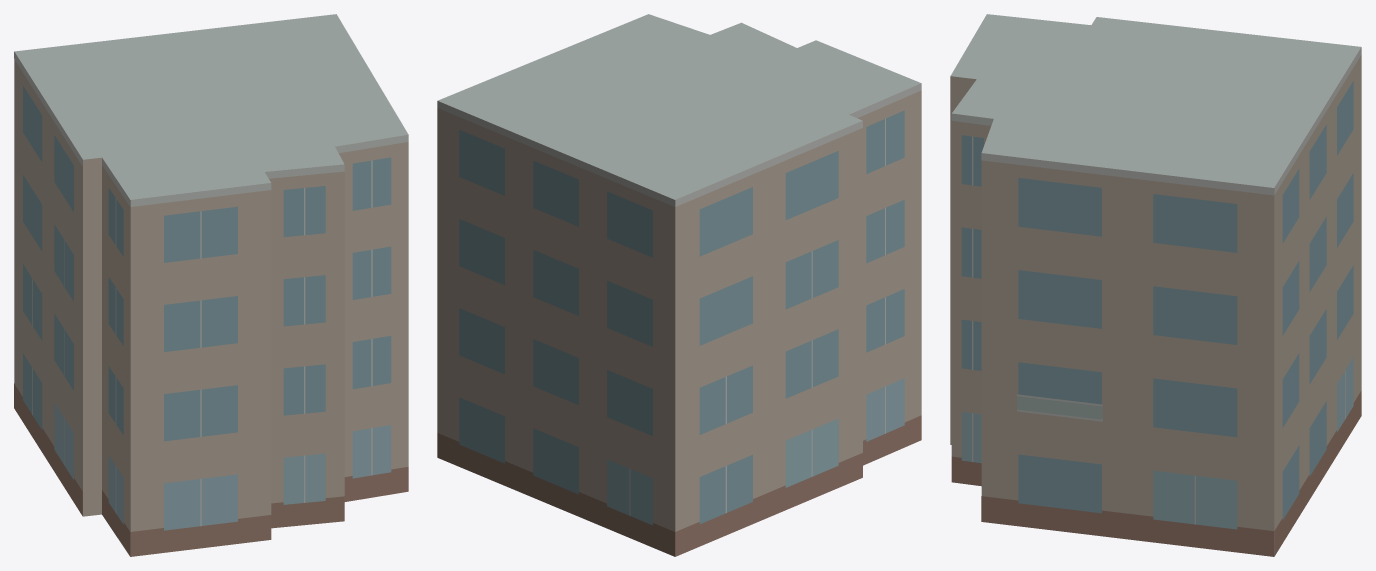
File: survey-upis-32617076.glb
3 views of the same model, side by side, from view 1: azimuth 30°, elevation 25°; view 2: azimuth 150°, elevation 25°; view 3: azimuth 270°, elevation 25° (orthographic). The views are drawn at different scales.
Parts seen in each view (by area): view 1: survey-upis-32617076.tmp; view 2: survey-upis-32617076.tmp; view 3: survey-upis-32617076.tmp.
Boxes of the visible parts, left/top/right/bottom form: survey-upis-32617076.tmp: left=14, top=14, right=408, bottom=556; survey-upis-32617076.tmp: left=437, top=14, right=921, bottom=556; survey-upis-32617076.tmp: left=950, top=14, right=1361, bottom=556.
Bounding box in the file's own units: 12.36 × 12.2 × 12.34.
